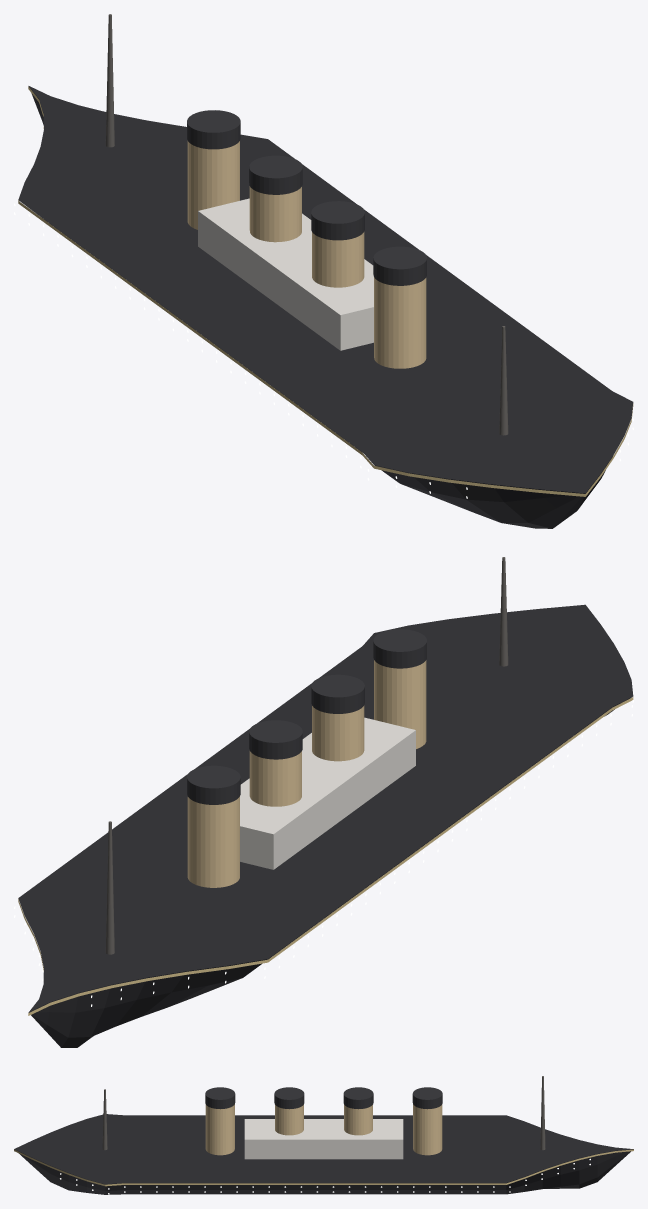
File: titanic_hull.glb
3 views of the same model, one above another, from view 1: azimuth 30°, elevation 25°; view 2: azimuth 150°, elevation 25°; view 3: azimuth 270°, elevation 25° (orthographic). The views are drawn at different scales.
Parts seen in each view (by area): view 1: Hull, Superstructure, Funnel3_Body, Funnel0_Body, Funnel2_Body, Funnel1_Body, SheerLine, Funnel2_Cap, Funnel0_Cap, Funnel1_Cap, Funnel3_Cap, Mast0 (+1 smaller); view 2: Hull, Superstructure, Funnel0_Body, Funnel3_Body, Funnel1_Body, Funnel2_Body, SheerLine, Funnel1_Cap, Funnel3_Cap, Funnel0_Cap, Funnel2_Cap, Mast0 (+1 smaller); view 3: Hull, Superstructure, Funnel0_Body, Funnel3_Body, SheerLine, Funnel1_Body, Funnel2_Body, Funnel0_Cap, Funnel3_Cap, Funnel1_Cap, Funnel2_Cap, Mast0 (+2 smaller).
Boxes of the visible parts, x1=… form: Hull: x1=18, y1=86, x2=633, y2=528; Superstructure: x1=198, y1=198, x2=373, y2=350; Funnel3_Body: x1=374, y1=277, x2=426, y2=368; Funnel0_Body: x1=187, y1=141, x2=239, y2=229; Funnel2_Body: x1=312, y1=232, x2=364, y2=287; Funnel1_Body: x1=249, y1=186, x2=301, y2=242; SheerLine: x1=18, y1=86, x2=633, y2=496; Funnel2_Cap: x1=311, y1=201, x2=364, y2=240; Funnel0_Cap: x1=187, y1=110, x2=240, y2=149; Funnel1_Cap: x1=249, y1=155, x2=302, y2=194; Funnel3_Cap: x1=373, y1=246, x2=426, y2=285; Mast0: x1=105, y1=14, x2=114, y2=147; Hull: x1=18, y1=604, x2=633, y2=1047; Superstructure: x1=240, y1=717, x2=415, y2=869; Funnel0_Body: x1=187, y1=796, x2=239, y2=887; Funnel3_Body: x1=374, y1=660, x2=426, y2=748; Funnel1_Body: x1=249, y1=751, x2=301, y2=806; Funnel2_Body: x1=312, y1=705, x2=364, y2=761; SheerLine: x1=18, y1=696, x2=633, y2=1015; Funnel1_Cap: x1=249, y1=720, x2=302, y2=759; Funnel3_Cap: x1=373, y1=629, x2=426, y2=668; Funnel0_Cap: x1=187, y1=765, x2=240, y2=804; Funnel2_Cap: x1=311, y1=674, x2=364, y2=713; Mast0: x1=105, y1=821, x2=114, y2=954; Hull: x1=14, y1=1114, x2=633, y2=1194; Superstructure: x1=244, y1=1119, x2=403, y2=1159; Funnel0_Body: x1=413, y1=1104, x2=442, y2=1155; Funnel3_Body: x1=205, y1=1104, x2=234, y2=1155; SheerLine: x1=14, y1=1149, x2=633, y2=1186; Funnel1_Body: x1=344, y1=1104, x2=372, y2=1135; Funnel2_Body: x1=275, y1=1104, x2=303, y2=1135; Funnel0_Cap: x1=412, y1=1087, x2=442, y2=1109; Funnel3_Cap: x1=205, y1=1087, x2=235, y2=1109; Funnel1_Cap: x1=343, y1=1087, x2=373, y2=1109; Funnel2_Cap: x1=274, y1=1087, x2=304, y2=1109; Mast0: x1=540, y1=1076, x2=545, y2=1150.
Size of the model in its own units: 23.24 by 17 by 85.
